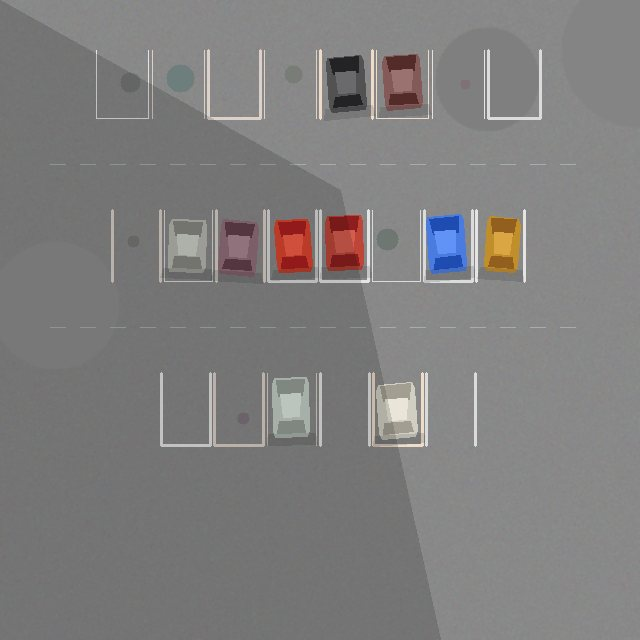space-empty: (96, 50, 148, 118), (152, 50, 204, 118), (208, 50, 260, 118), (264, 50, 316, 118), (432, 50, 484, 118), (488, 50, 540, 118), (161, 373, 210, 445), (214, 373, 263, 445), (320, 373, 369, 445), (426, 373, 475, 445), (112, 210, 160, 281), (372, 210, 420, 281)
space-occupied: (320, 50, 372, 118), (376, 50, 428, 118), (267, 373, 316, 445), (373, 373, 422, 445), (164, 210, 212, 281), (216, 210, 264, 281), (268, 210, 316, 281), (320, 210, 368, 281), (424, 210, 472, 281), (476, 210, 524, 281)
